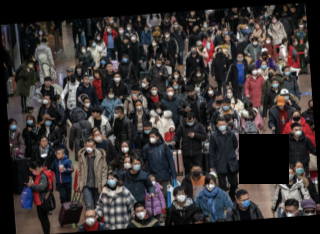mask_weared_incorrect: (93, 132, 102, 142), (190, 47, 197, 54)
with_mask: (83, 214, 96, 226), (134, 208, 147, 220), (175, 191, 187, 203), (106, 176, 117, 188), (240, 196, 251, 208), (191, 167, 202, 178), (205, 180, 216, 191), (284, 207, 297, 216), (217, 121, 227, 132), (284, 170, 295, 180), (295, 164, 304, 176), (43, 117, 53, 127), (84, 143, 94, 153), (131, 161, 141, 171), (41, 95, 50, 105), (8, 121, 17, 131), (120, 143, 129, 153), (293, 127, 302, 137), (292, 112, 301, 122), (304, 208, 316, 215), (148, 134, 157, 143), (29, 168, 39, 176), (123, 159, 131, 169), (135, 102, 143, 111), (166, 88, 174, 97), (186, 118, 195, 126), (222, 103, 231, 111), (226, 118, 234, 127), (282, 92, 290, 101), (271, 80, 279, 89), (25, 117, 33, 125), (105, 25, 113, 33), (113, 75, 121, 83), (150, 87, 158, 95), (187, 91, 195, 99), (215, 95, 223, 103), (267, 70, 275, 78), (130, 90, 139, 97), (112, 110, 119, 119), (143, 127, 152, 134), (83, 100, 90, 108), (130, 34, 137, 42), (140, 80, 147, 88), (155, 106, 162, 114), (237, 54, 244, 62), (284, 68, 291, 76), (57, 96, 63, 105), (27, 61, 34, 68), (80, 47, 87, 54), (69, 76, 76, 83), (121, 56, 128, 63), (172, 72, 179, 79), (172, 83, 179, 90), (195, 70, 202, 77), (207, 88, 214, 95), (226, 90, 233, 97), (261, 50, 268, 57), (106, 92, 114, 98), (150, 178, 156, 186), (155, 61, 163, 67), (261, 62, 267, 70), (91, 40, 97, 47), (99, 58, 106, 64), (163, 32, 170, 38), (173, 22, 179, 29), (151, 40, 157, 47), (213, 25, 219, 32), (223, 28, 229, 35), (252, 68, 258, 75), (108, 17, 114, 23), (95, 34, 101, 40), (126, 24, 132, 30), (194, 26, 200, 32), (217, 49, 223, 55), (231, 7, 237, 13), (252, 40, 258, 46), (309, 102, 313, 111), (265, 38, 271, 44), (75, 67, 82, 72), (249, 19, 254, 26), (278, 103, 285, 108), (299, 22, 304, 29), (38, 29, 43, 35), (118, 28, 124, 33), (189, 10, 195, 15), (294, 39, 299, 45), (272, 17, 277, 23), (282, 13, 288, 18), (264, 11, 268, 18), (144, 26, 149, 31), (164, 17, 169, 22), (202, 22, 207, 27), (279, 60, 284, 65), (211, 25, 215, 31), (251, 34, 255, 40), (137, 16, 141, 21), (164, 53, 168, 58), (154, 28, 159, 31)
without_mask: (39, 138, 48, 148), (55, 150, 63, 159), (44, 78, 51, 87), (106, 64, 113, 72), (82, 76, 89, 83), (91, 110, 97, 117), (93, 72, 99, 79), (122, 37, 127, 44), (225, 35, 230, 42), (196, 44, 203, 49), (66, 70, 72, 75), (206, 36, 211, 42), (255, 22, 260, 28), (302, 15, 307, 20), (291, 7, 295, 13)
